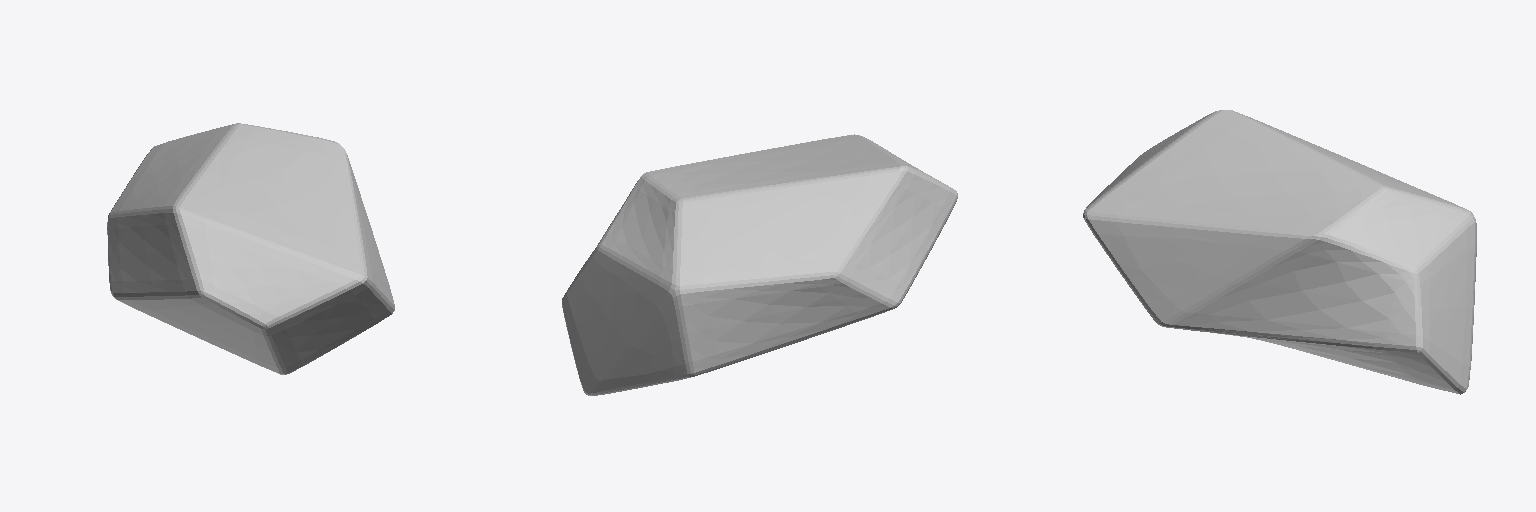
The model's file is rock-tree3-02.obj.
3 views of the same model, side by side, from view 1: azimuth 30°, elevation 25°; view 2: azimuth 150°, elevation 25°; view 3: azimuth 270°, elevation 25° (orthographic).
Visible parts, largest first — view 1: rock_tree3_02 Rocks; view 2: rock_tree3_02 Rocks; view 3: rock_tree3_02 Rocks.
Part boxes in pixels (x1,y1,x2,y2): rock_tree3_02 Rocks: (107, 123, 394, 374); rock_tree3_02 Rocks: (562, 134, 957, 395); rock_tree3_02 Rocks: (1083, 110, 1476, 394).
Bounding box in the file's own units: 0.6406 × 0.4235 × 0.7984.